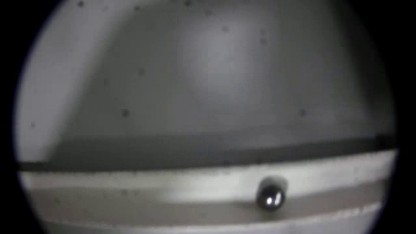gangzhu: (257, 181, 286, 211)
